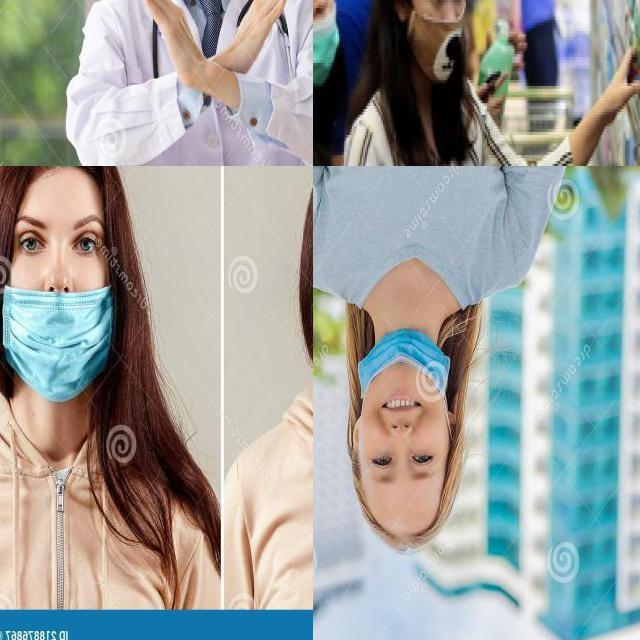hairnet: (0, 258, 115, 400), (354, 334, 452, 445)
